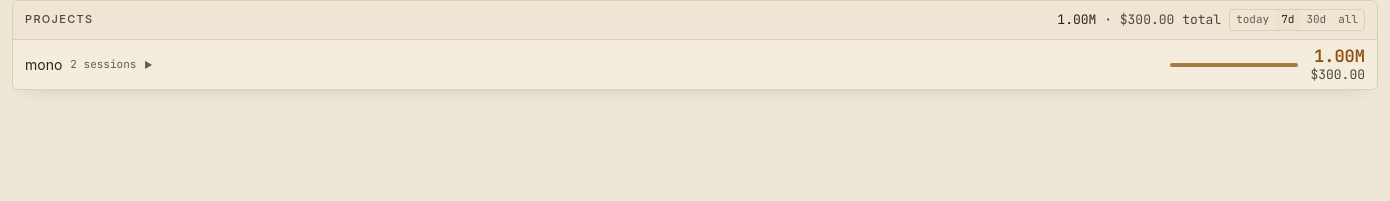
Test: ProjectsPanel figures › states both figures on each directory of the breakdown
Click the button titled "mono: show cost by directory".
click(44, 64)  # box [13, 40, 1377, 89]
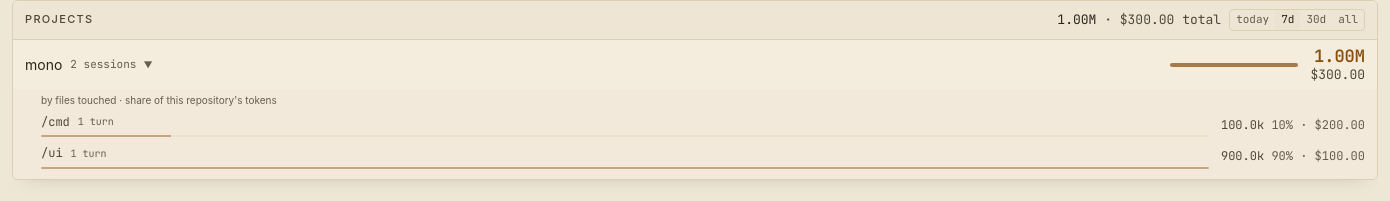
Expected: the element showing "900.0k 90% · $100.00" is shown, [1221, 148, 1365, 166]
Expected: the element showing "100.0k 10% · $200.00" is shown, [1221, 117, 1365, 134]
